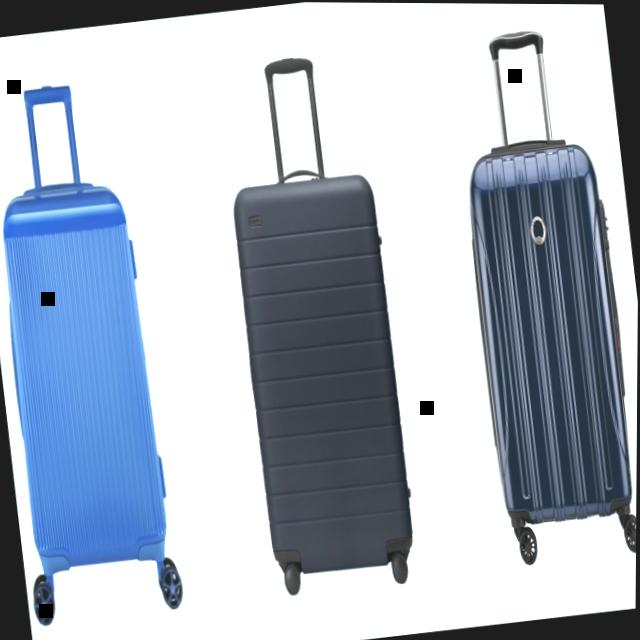luggage: (220, 157, 427, 584), (452, 121, 639, 546), (0, 165, 182, 592)
